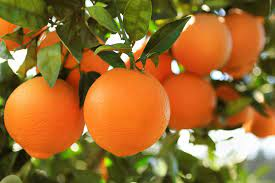portakal: (76, 49, 177, 166), (168, 5, 236, 76)
